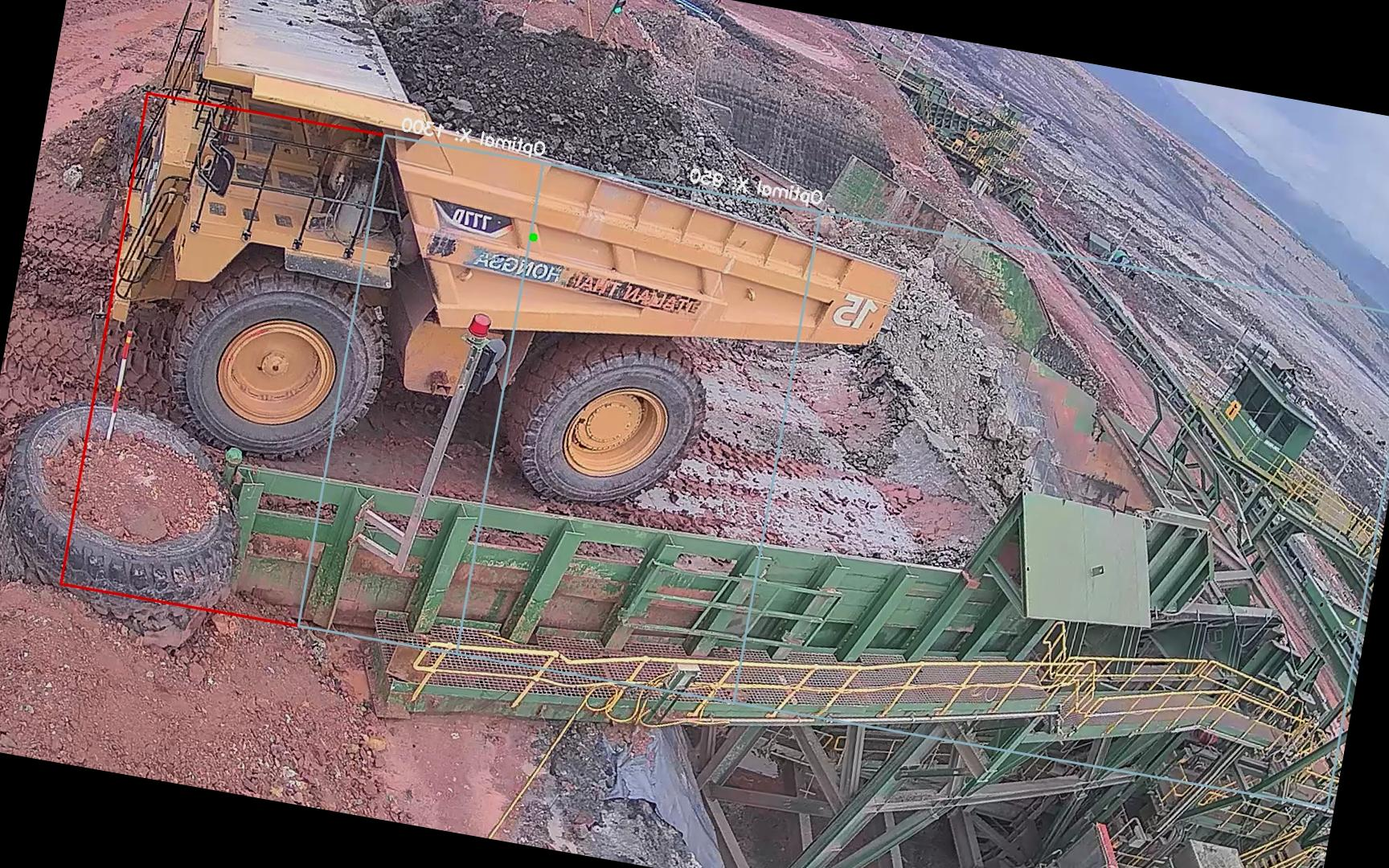company: (448, 231, 717, 326)
full_load: (363, 0, 764, 204)
mining_truck: (68, 0, 944, 565)
tail_number: (824, 285, 884, 338)
truck_size: (444, 198, 508, 239)
